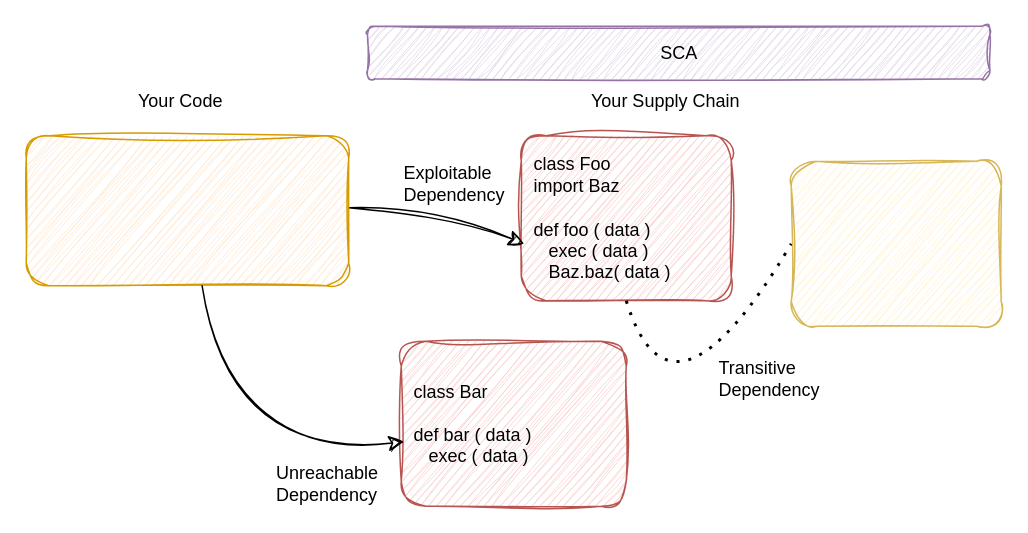
Some shapes in this 1028 by 533 pixel diagram are drawn without their labels. The centre of each missing label's shape, as x and y in pixels:
class Baz def baz ( data ) exec ( data ): the point at 895,243
import Foo, Bar data = Foo.foo ( user input ) send ( data ) Bar.print(): the point at 187,210
